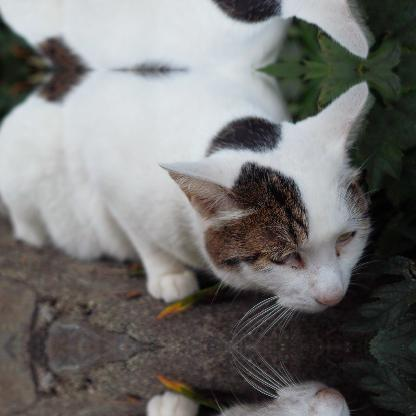Cat: (0, 69, 384, 346), (0, 0, 385, 70), (0, 346, 385, 415)
